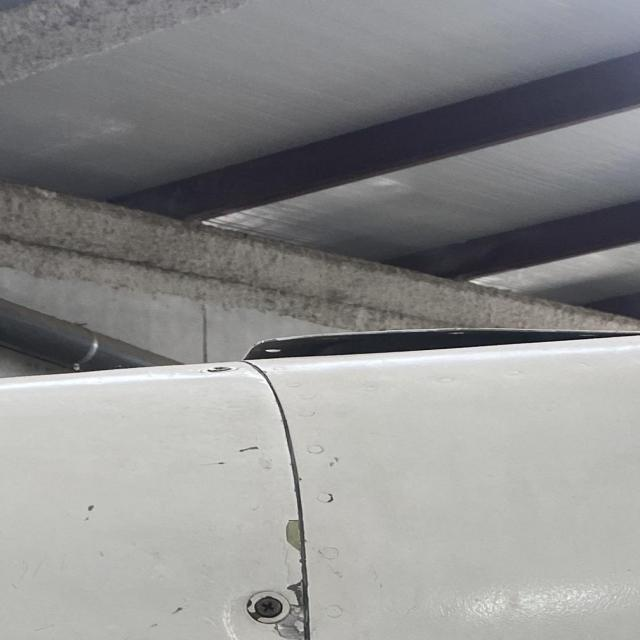Paint-off: (276, 584, 311, 639), (284, 516, 304, 551), (80, 501, 98, 522), (238, 446, 264, 454)
